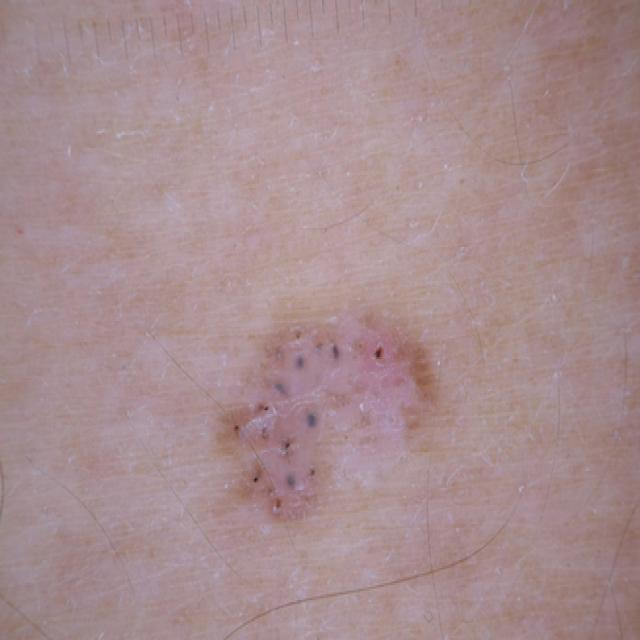Carcinoma: (192, 273, 468, 581)
